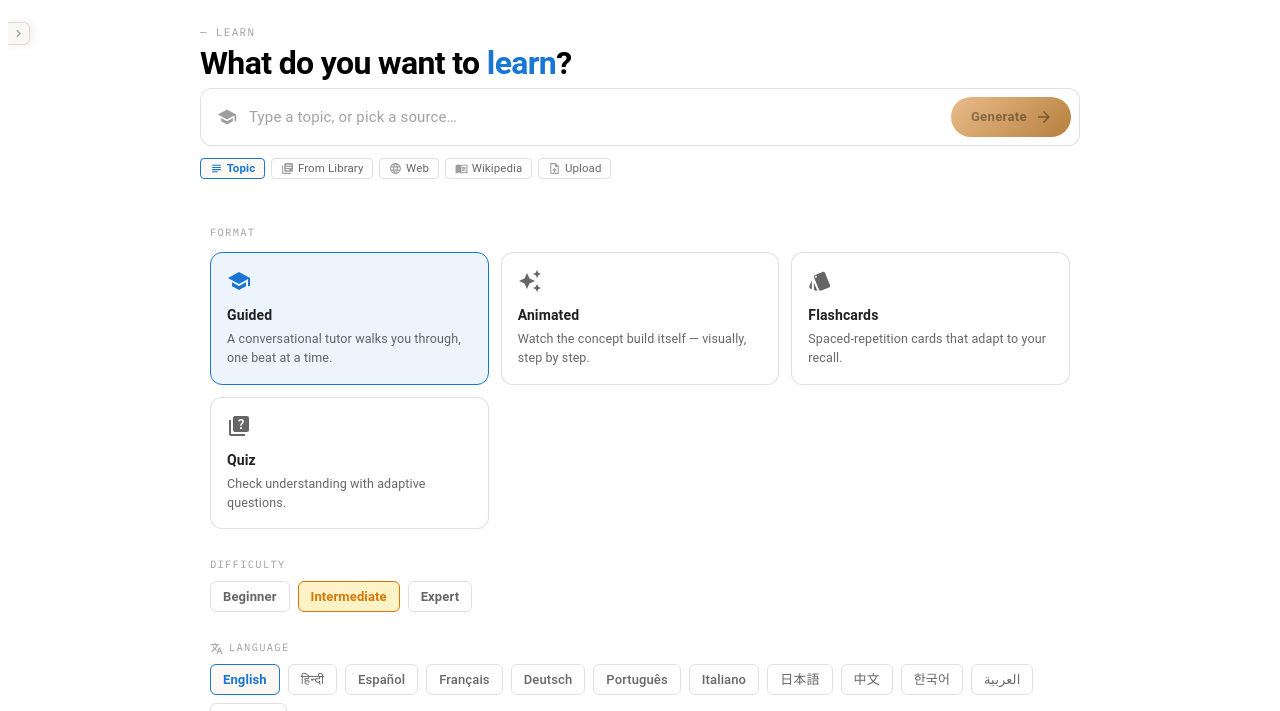
Test: Empty state › Generate button becomes enabled after typing a topic
The width and height of the screenshot is (1280, 711).
Type "Photosynthesis" into the field with placeholder "Type a topic, or pick a source…" at (594, 117), box [249,106,939,128]
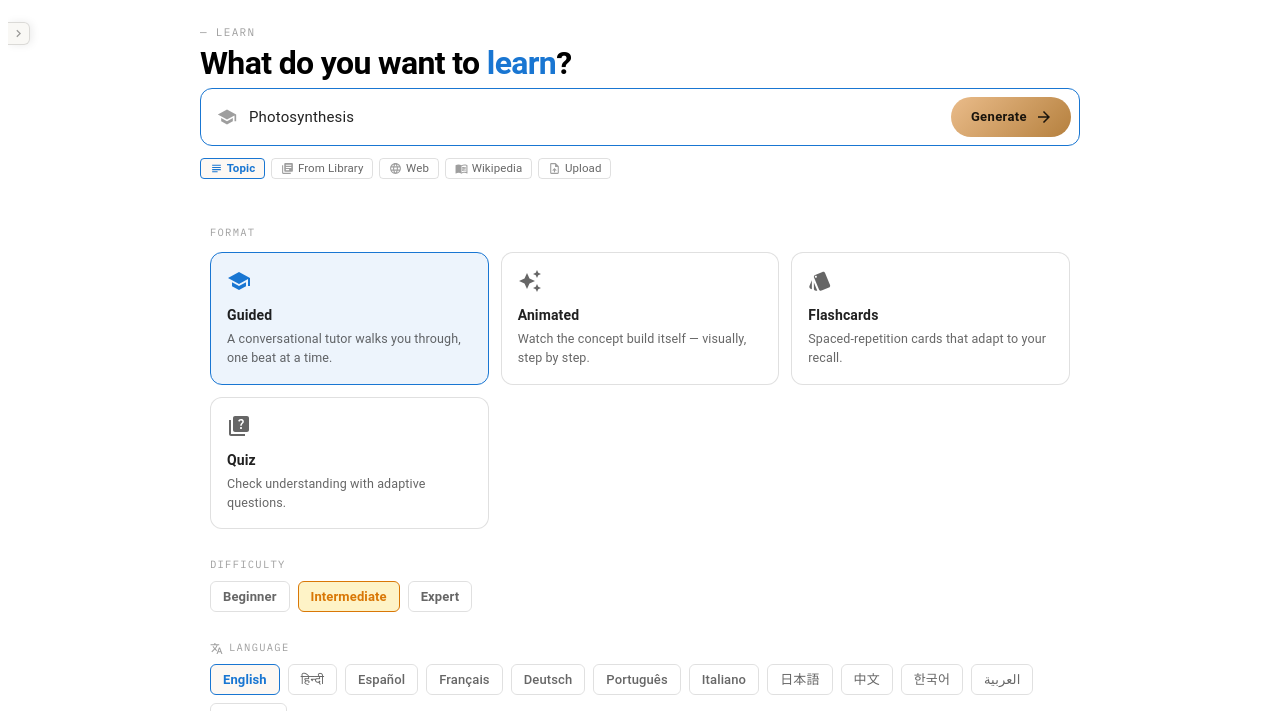
Result: the button "Generate" is enabled at [951,97,1071,137]
